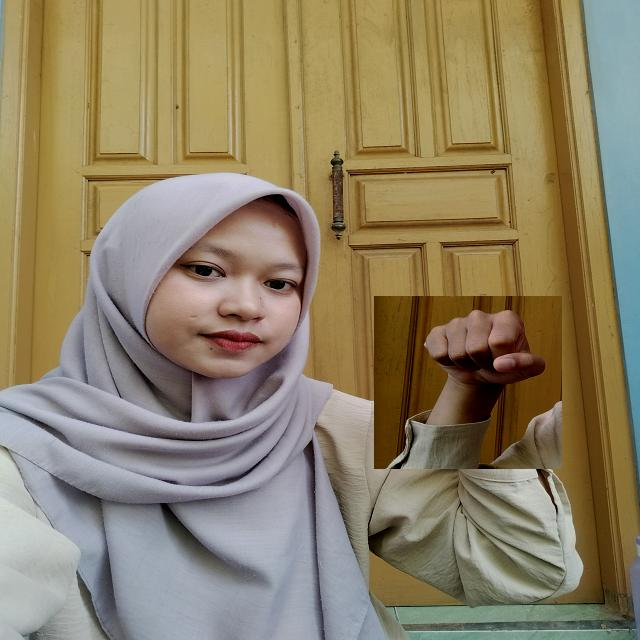baik: (374, 296, 562, 469)
